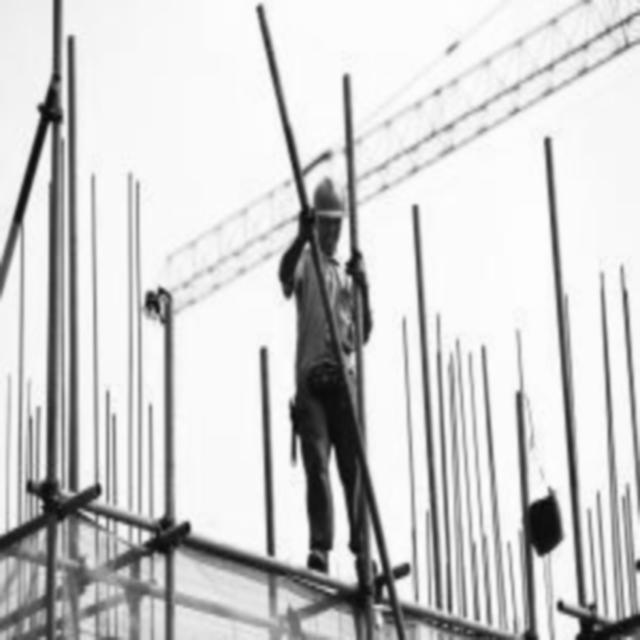head: (307, 173, 348, 259)
